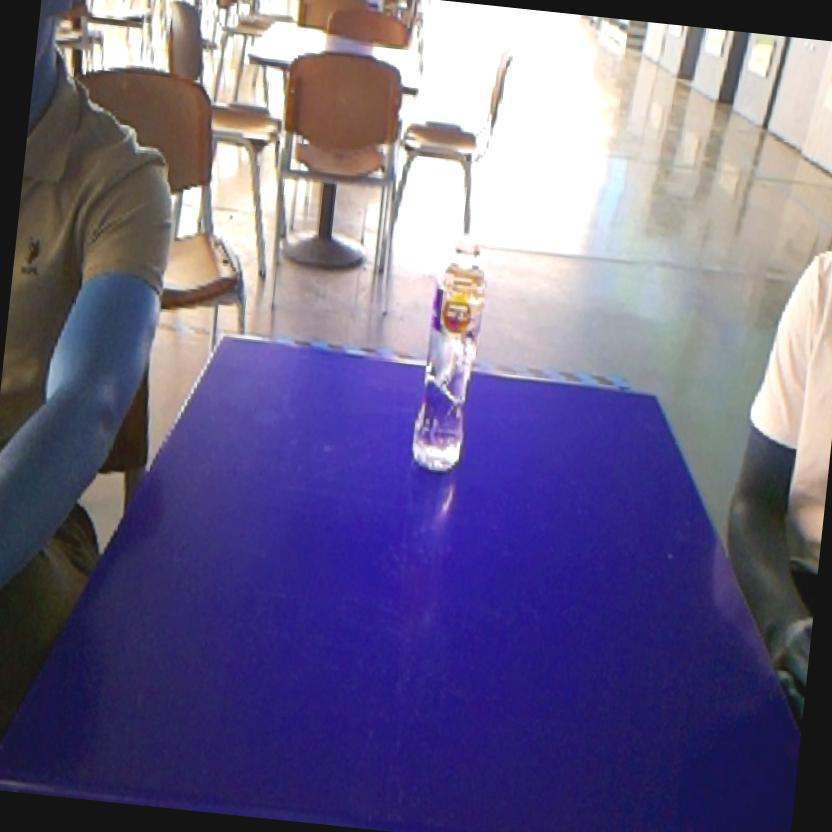no_cap: (402, 224, 502, 484)
